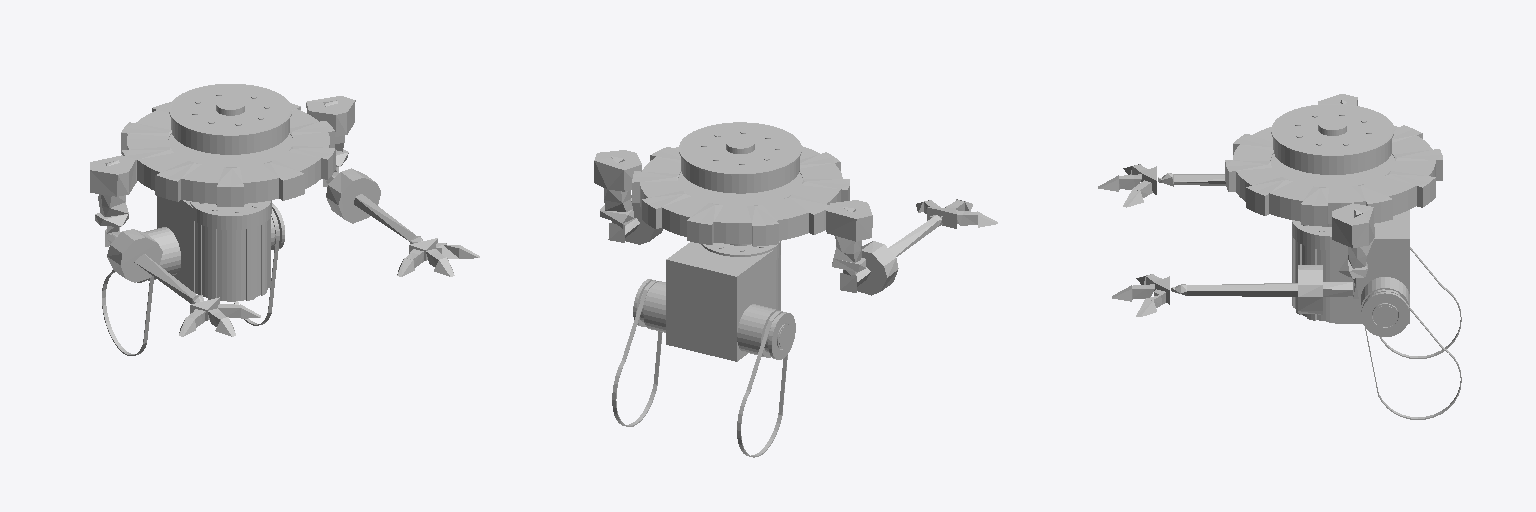
File: RobotRece_000024.obj
3 views of the same model, side by side, from view 1: azimuth 30°, elevation 25°; view 2: azimuth 150°, elevation 25°; view 3: azimuth 270°, elevation 25° (orthographic).
Visible parts, largest first — view 1: Cylinder.007, Cube_Cube.003; view 2: Cylinder.007, Cube_Cube.003; view 3: Cylinder.007, Cube_Cube.003.
Part boxes in pixels (x1,y1,x2,y2): Cylinder.007: (102, 84, 335, 355); Cube_Cube.003: (90, 96, 479, 336); Cylinder.007: (612, 122, 849, 457); Cube_Cube.003: (594, 150, 997, 295); Cylinder.007: (1225, 104, 1461, 419); Cube_Cube.003: (1098, 94, 1374, 316).
Bounding box in the file's own units: 4.59 × 3.78 × 4.7.